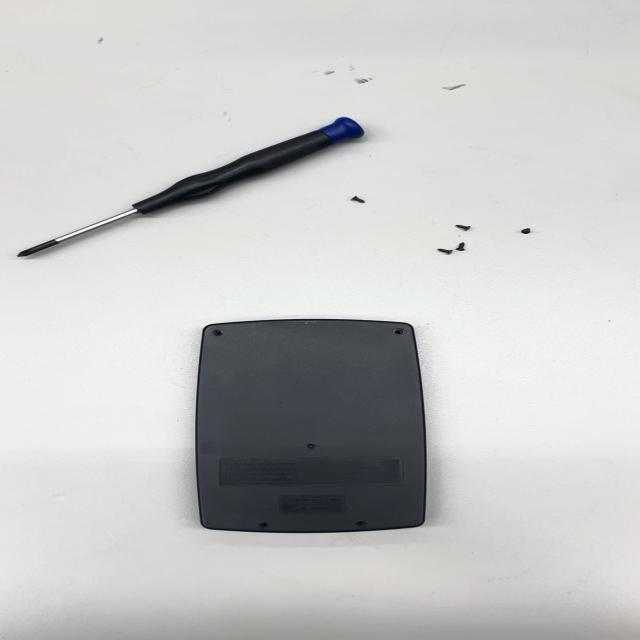back_cover: (194, 316, 428, 538)
screw: (346, 192, 368, 206), (452, 242, 472, 254), (521, 226, 538, 240), (454, 221, 472, 233), (430, 247, 454, 256)
screw_driver: (18, 118, 364, 260)
